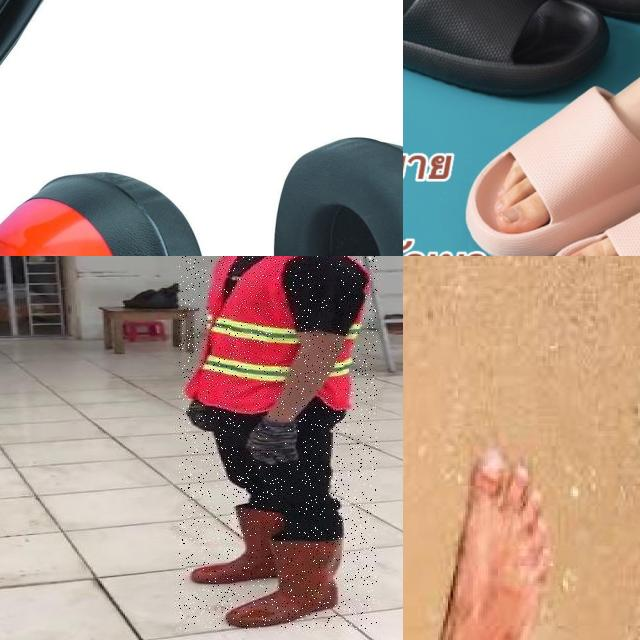Barefoots: (419, 430, 556, 640)
Ear-protection: (0, 165, 212, 256), (272, 134, 403, 256)
Sandals: (432, 44, 640, 256)
boots: (225, 538, 348, 628), (187, 498, 310, 588)
person: (179, 256, 377, 629)
vest: (192, 256, 359, 415)
